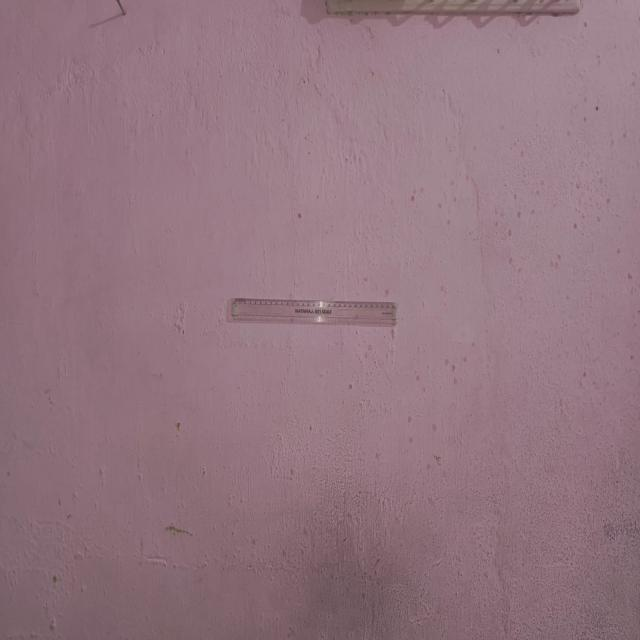scale: (230, 298, 395, 326)
